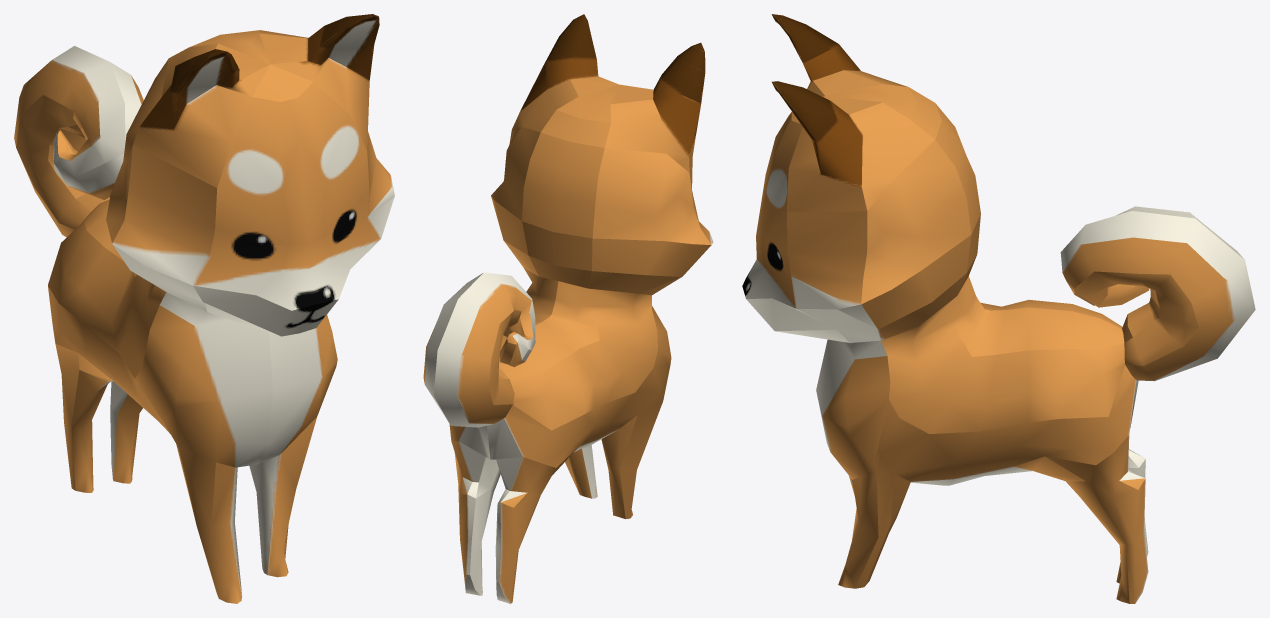
File: tailWagging_frame30.obj
3 renders of one model, left to right at view 1: azimuth 30°, elevation 25°; view 2: azimuth 150°, elevation 25°; view 3: azimuth 270°, elevation 25°, orthographic. The views are drawn at different scales.
Visible parts, largest first — view 1: newRigging:BodzL1; view 2: newRigging:BodzL1; view 3: newRigging:BodzL1.
Part boxes in pixels (box(x1,y1,x2,y2)): newRigging:BodzL1: box(14, 14, 394, 603); newRigging:BodzL1: box(423, 14, 713, 603); newRigging:BodzL1: box(742, 14, 1255, 603).
Size of the model in its own units: 3.91 by 7.95 by 6.81.
Materials: 1 (1 with a texture image).
